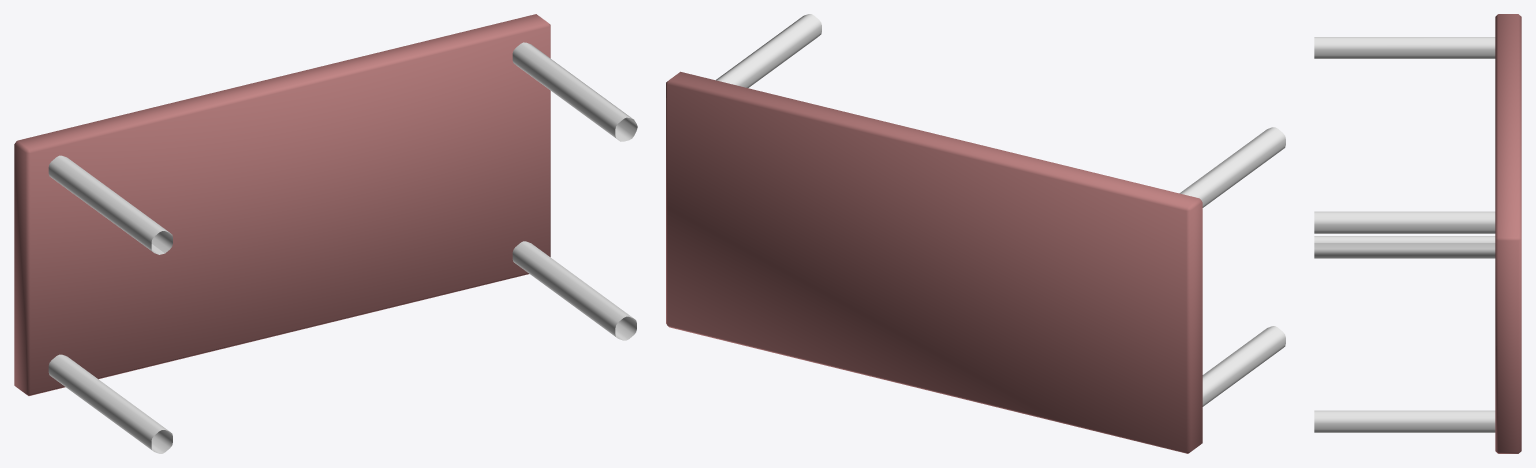
3 views of the same model, side by side, from view 1: azimuth 30°, elevation 25°; view 2: azimuth 150°, elevation 25°; view 3: azimuth 270°, elevation 25° (orthographic). The views are drawn at different scales.
Parts seen in each view (by area): view 1: Circle; view 2: Circle; view 3: Circle.
Boxes of the visible parts, box(x1,y1,x2,y2) form: Circle: box(14, 14, 637, 453); Circle: box(666, 14, 1285, 453); Circle: box(1314, 14, 1521, 453).
Bounding box in the file's own units: 100 × 45 × 38.85.
